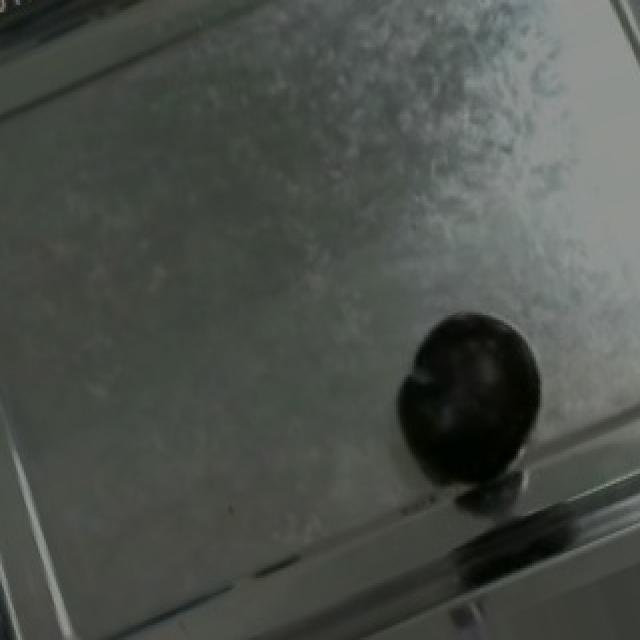Fruit: (376, 297, 566, 518)
